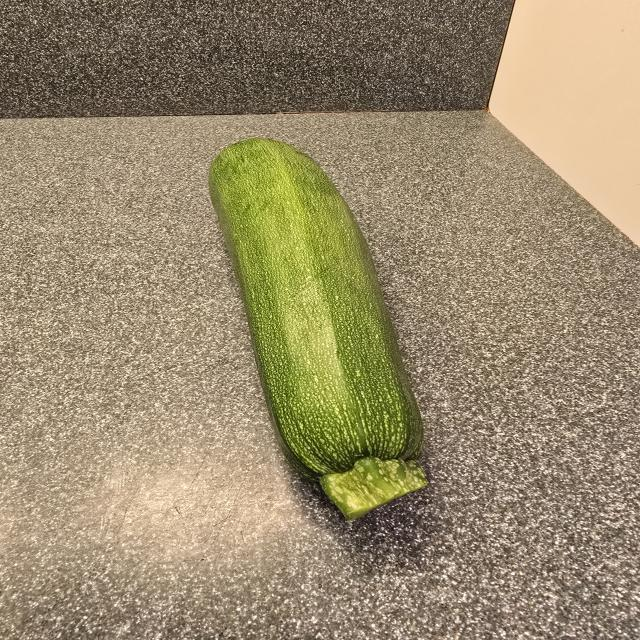Courgette: (204, 133, 435, 526)
